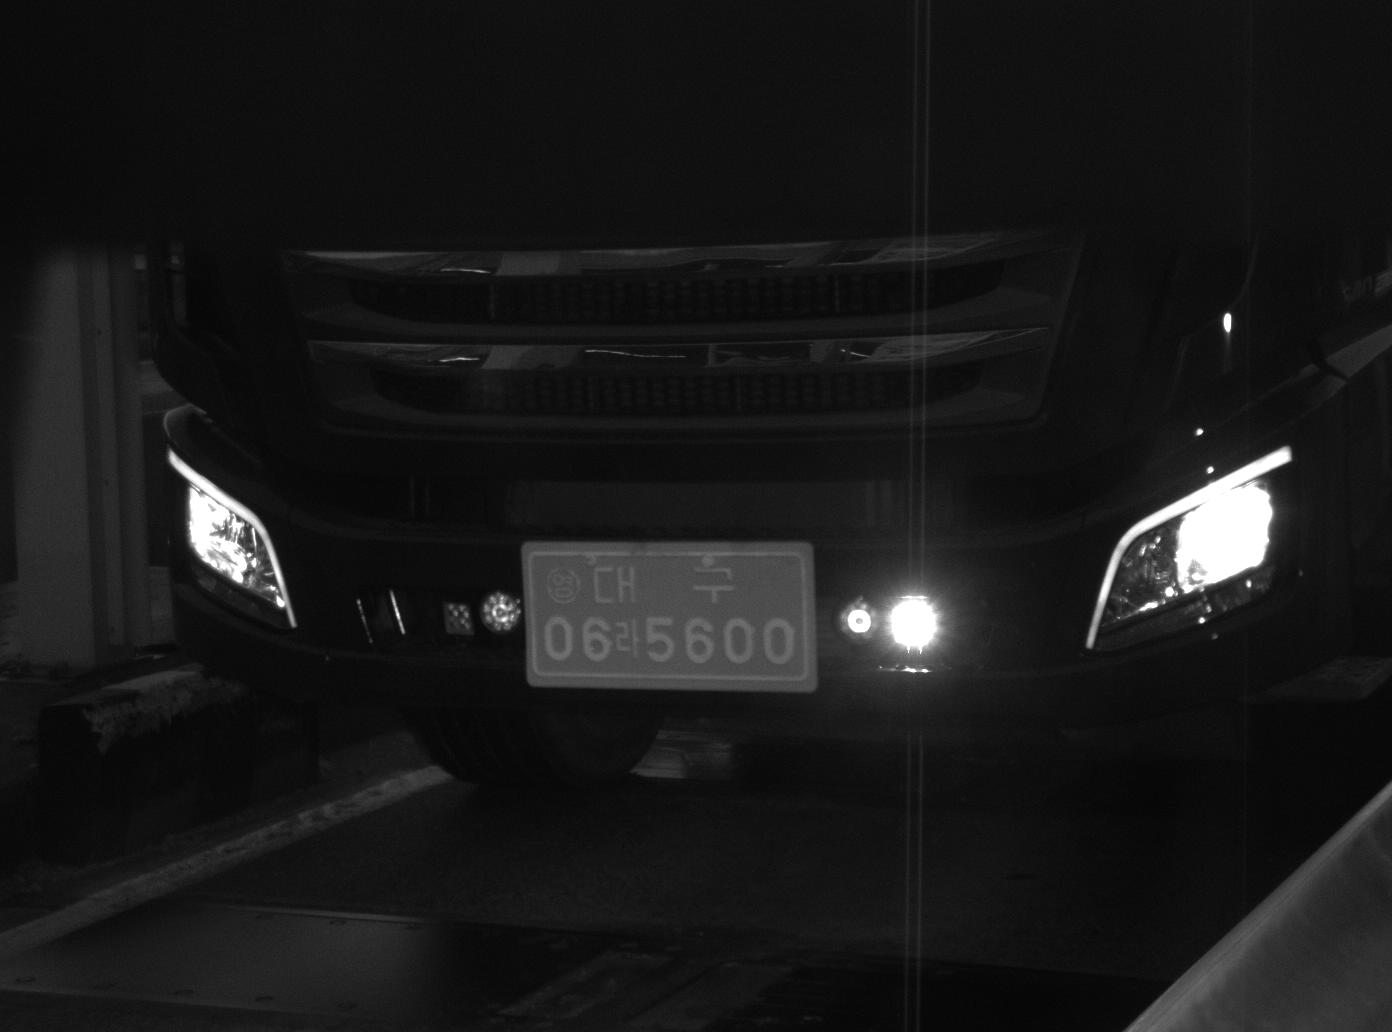car: (126, 1, 1390, 811)
plate: (522, 545, 815, 687)
